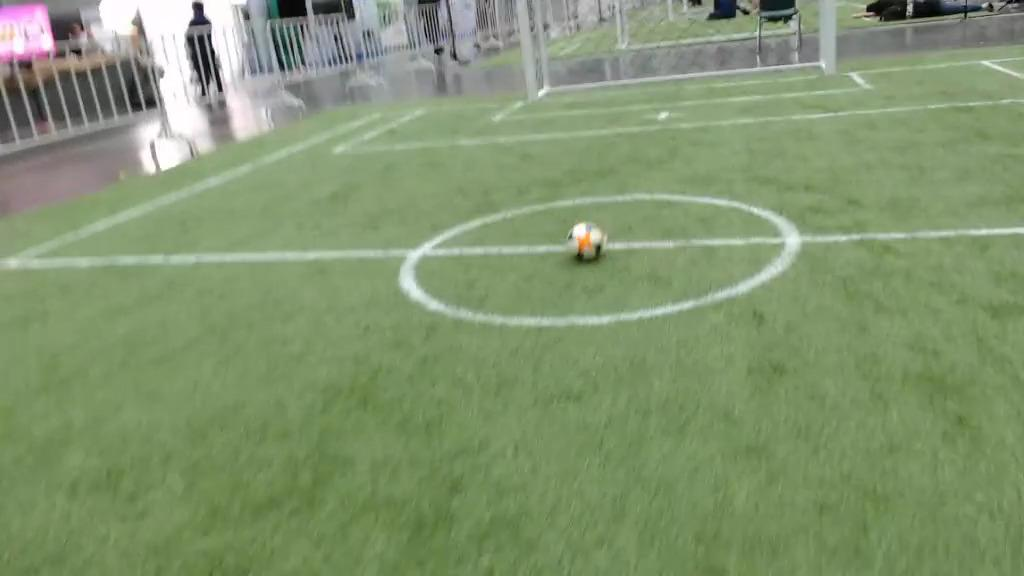ball: (567, 223, 603, 261)
